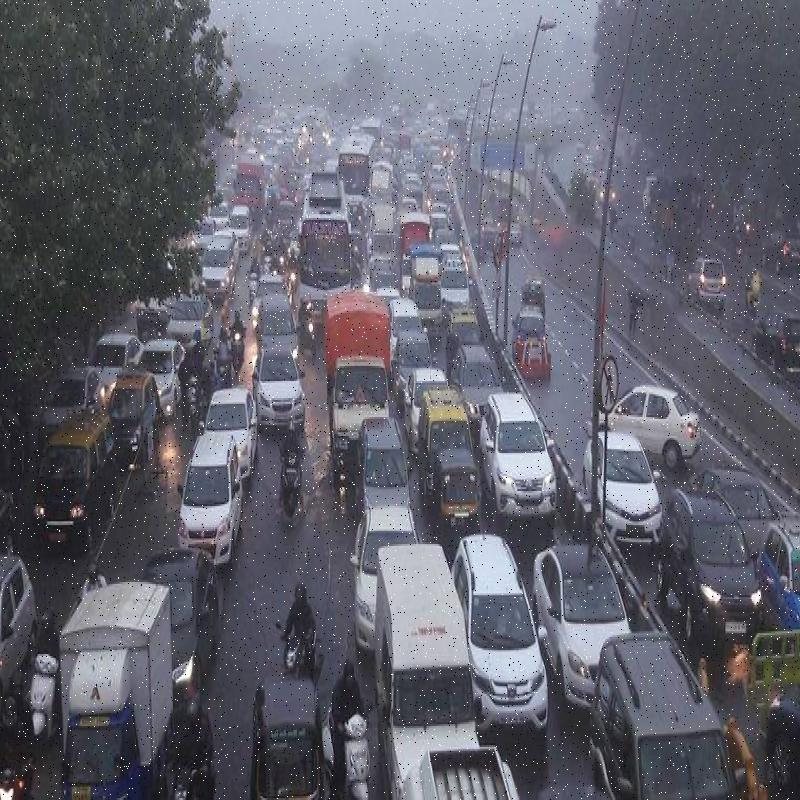car: (542, 538, 626, 709), (472, 535, 536, 723), (491, 390, 561, 523), (177, 432, 240, 574), (592, 431, 650, 558), (257, 343, 308, 434), (211, 383, 248, 496)
